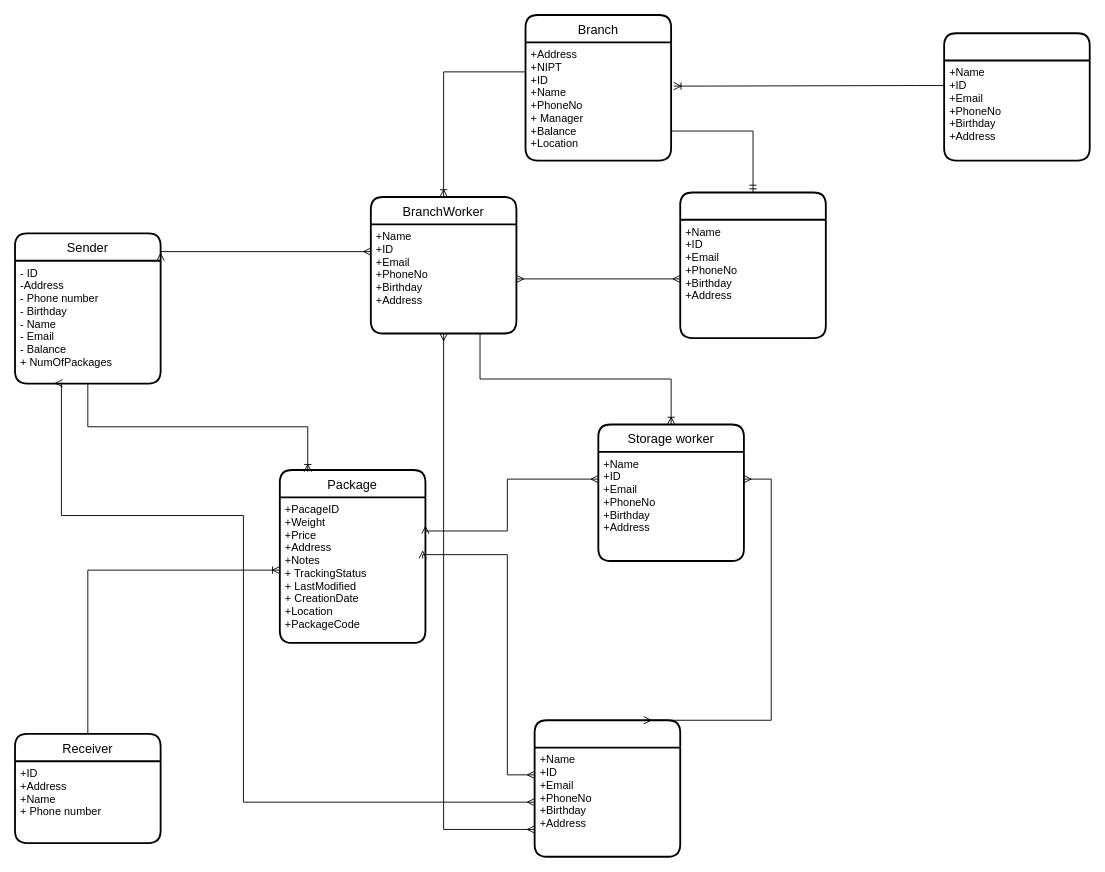
Some shapes in this 1105 by 872 pixel diagram are drawn without their labels. Each missing label, with the box of its shape:
BranchManager: (679, 191, 826, 339)
Driver: (533, 719, 681, 857)
Finance: (943, 32, 1090, 161)
